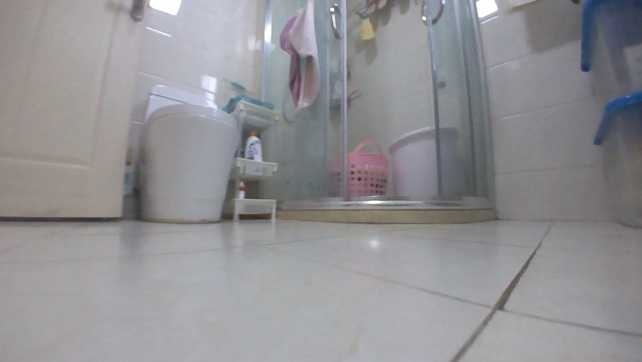toilet: (137, 84, 240, 222)
